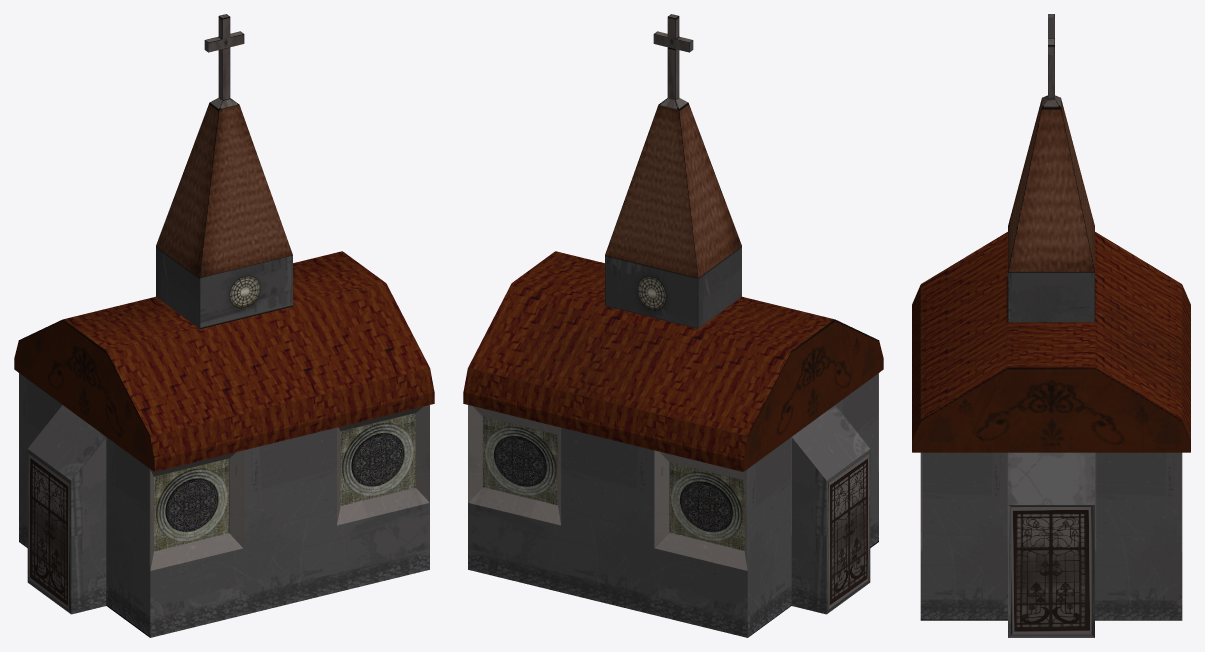
Rendered from Church.fbx.
3 views of the same model, side by side, from view 1: azimuth 30°, elevation 25°; view 2: azimuth 150°, elevation 25°; view 3: azimuth 270°, elevation 25° (orthographic).
Parts seen in each view (by area): view 1: Box001; view 2: Box001; view 3: Box001.
Part boxes in pixels (<box>): Box001: <box>14,14,434,637</box>; Box001: <box>463,14,883,637</box>; Box001: <box>912,14,1190,637</box>.
Size of the model in its own units: 269 by 395 by 186.
Materials: 1 (1 with a texture image).
